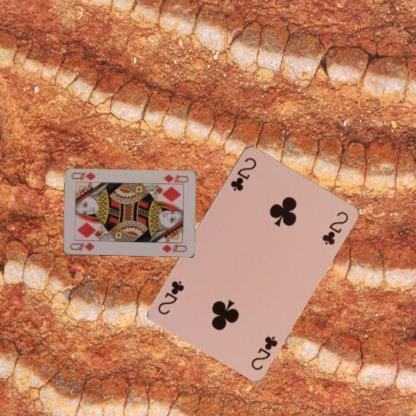2c: (227, 154, 258, 192), (248, 333, 279, 371)
Qd: (160, 172, 190, 186), (67, 240, 95, 252)
